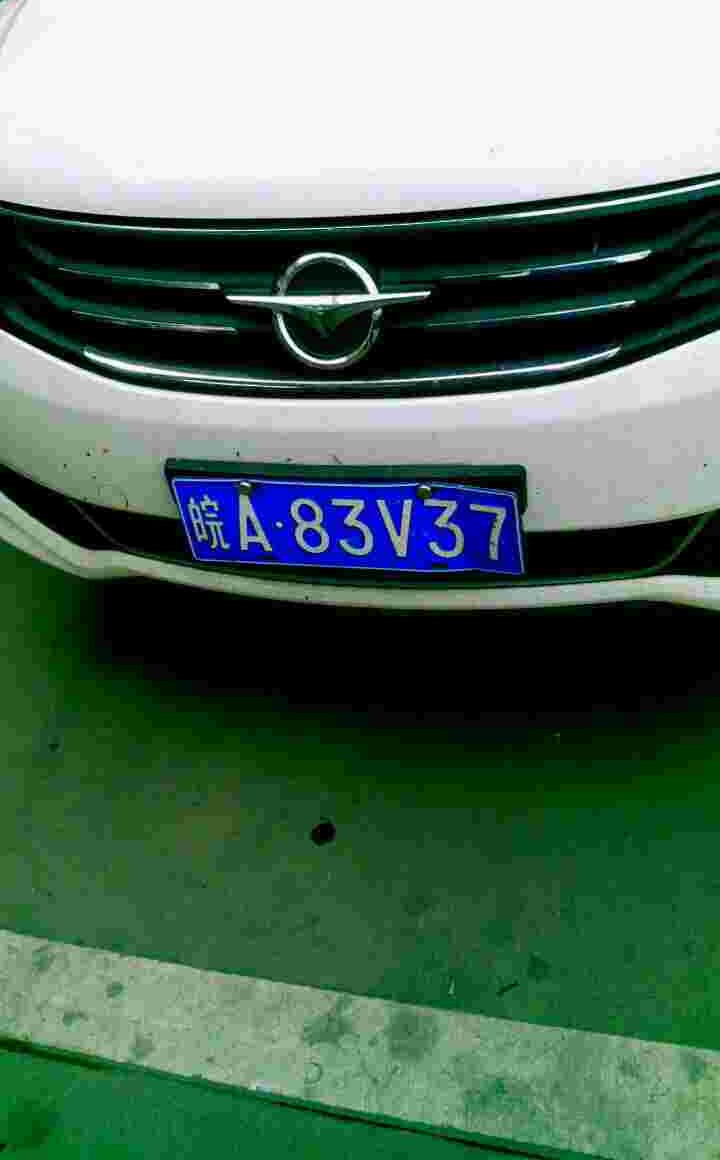license_plate: (178, 466, 548, 588)
